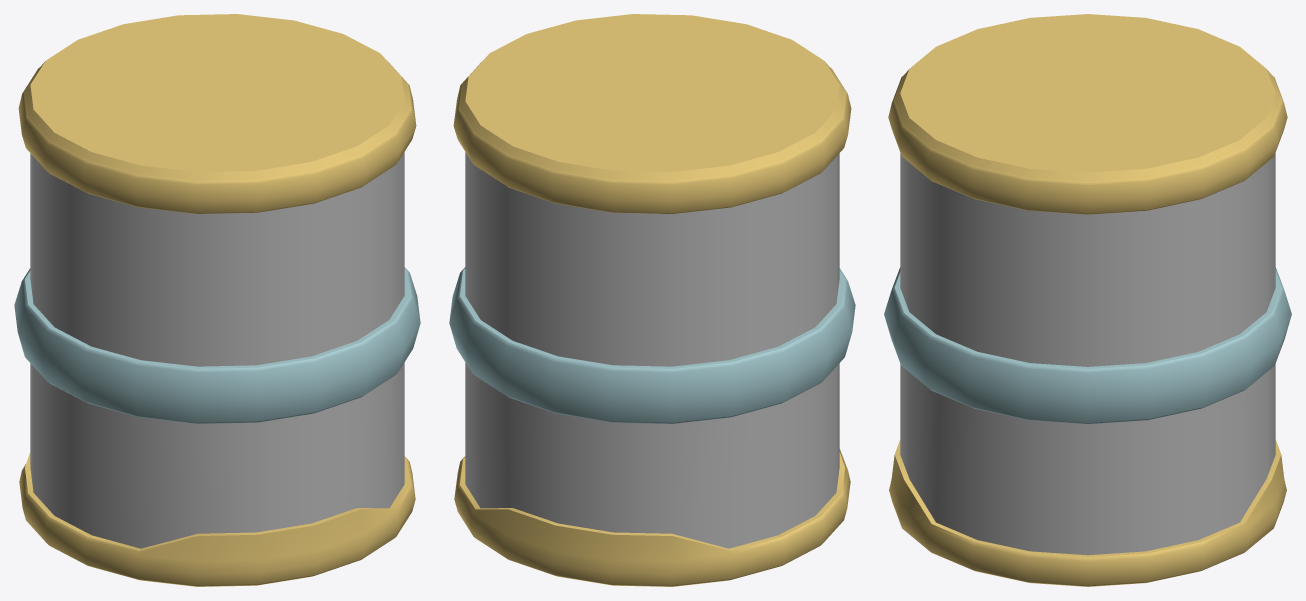
File: Barrel1_colourcoded.fbx
The picture shows the model from 3 angles, left to right: view 1: azimuth 30°, elevation 25°; view 2: azimuth 150°, elevation 25°; view 3: azimuth 270°, elevation 25°; orthographic projection.
Visible parts, largest first — view 1: pCylinder1; view 2: pCylinder1; view 3: pCylinder1.
Part boxes in pixels (left/top/right/bottom): pCylinder1: left=14, top=14, right=420, bottom=586; pCylinder1: left=449, top=14, right=855, bottom=586; pCylinder1: left=884, top=14, right=1291, bottom=586.
Size of the model in its own units: 2.17 by 2.43 by 2.17.
